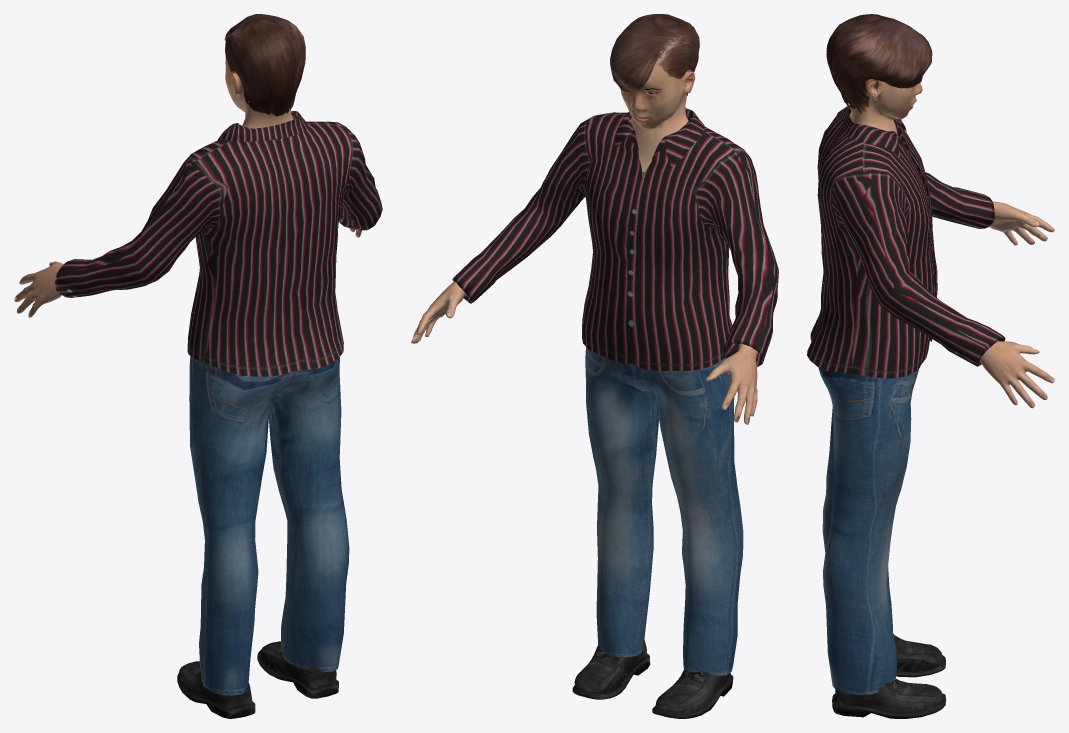
The model's file is shrugging_1.gltf.
3 renders of one model, left to right at view 1: azimuth 30°, elevation 25°; view 2: azimuth 150°, elevation 25°; view 3: azimuth 270°, elevation 25°, orthographic.
Parts seen in each view (by area): view 1: shrugging; view 2: shrugging; view 3: shrugging.
Boxes of the visible parts, <box> form: shrugging: <box>14,14,382,718</box>; shrugging: <box>411,14,778,718</box>; shrugging: <box>807,14,1054,718</box>.
Bounding box in the file's own units: 0.8498 × 1.62 × 0.5416.
6 materials, 6 textured.
